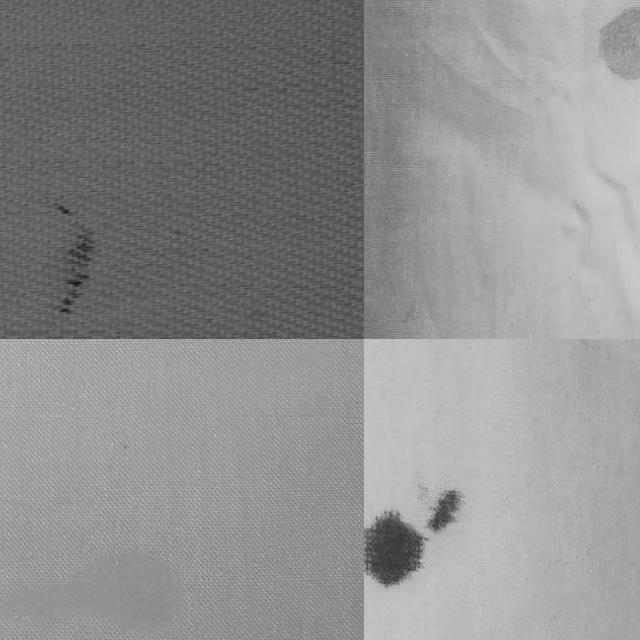Thread_other: (364, 446, 497, 636), (8, 157, 134, 339), (568, 0, 640, 103)
